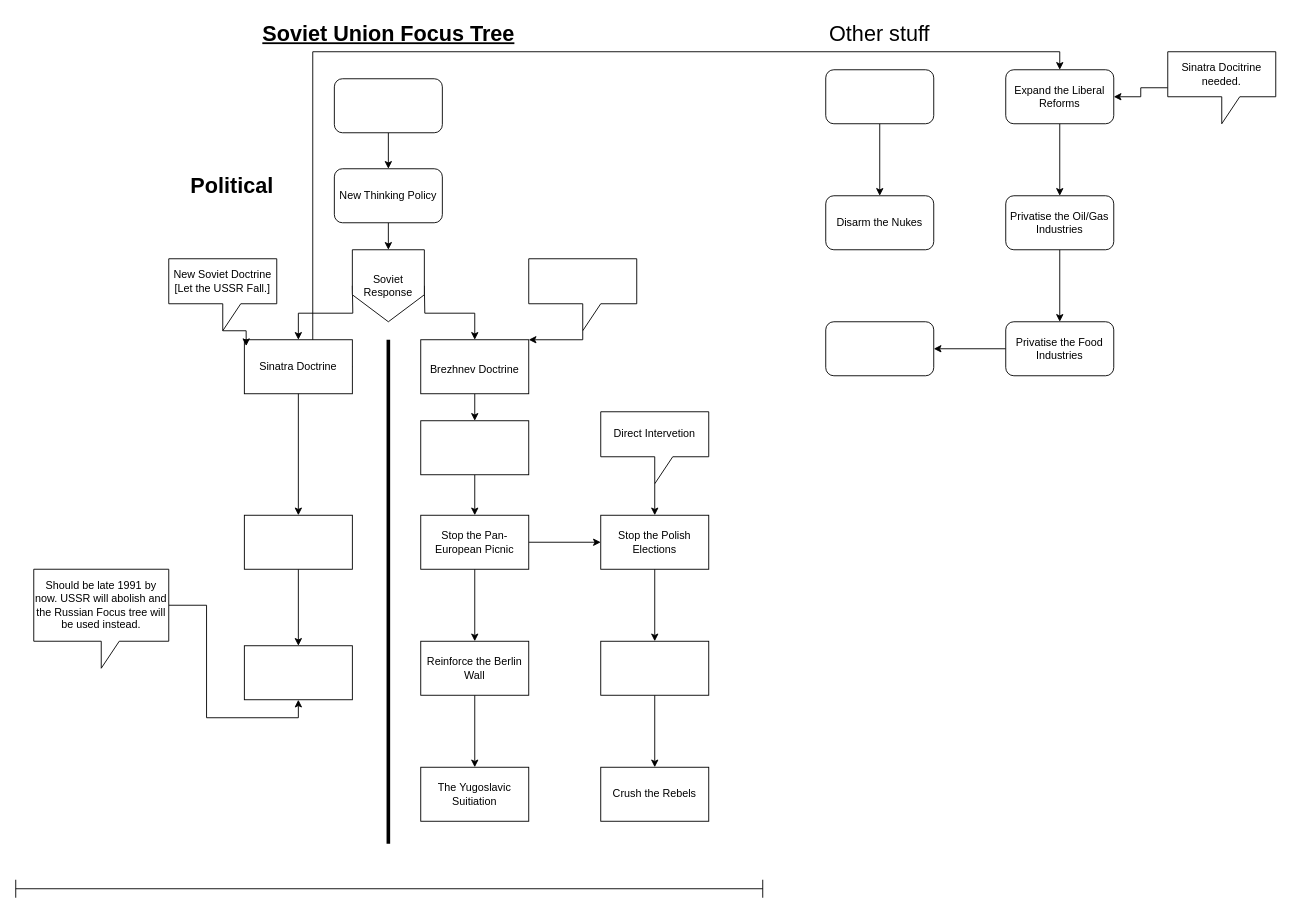
Some shapes in this 1292 by 914 pixel diagram are drawn without their labels. Here are the shapes that lost their labels. From the top down, the centre of each, then its label:
At (387,105): "1988 Annual Report".
At (879,96): "Sign the START I Agreement".
At (582,294): "Old Soviet Doctrine [Save the USSR by force]".
At (879,348): "Increase Civil Libreties".
At (474,447): "Enforce Martial Law".
At (297,541): "Dismantle the Warsaw Pact".
At (297,672): "Abolish the USSR".
At (654,667): "Seize control of the Warsaw Pact".
